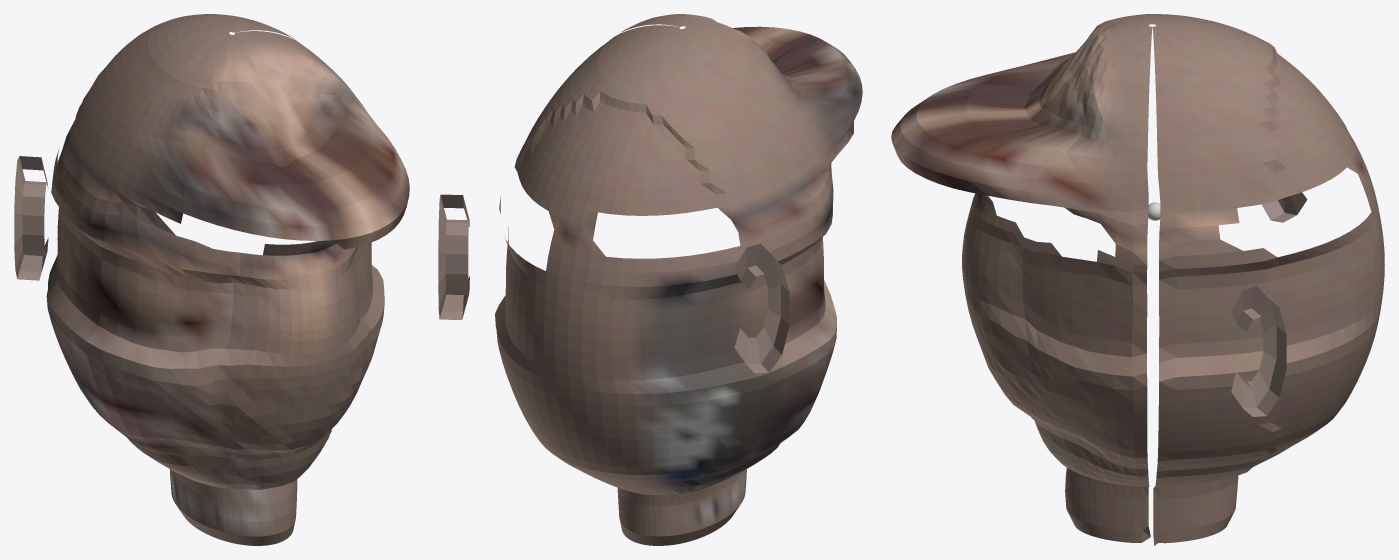
The model's file is avatar_v2_3e021de1.glb.
The picture shows the model from 3 angles, left to right: view 1: azimuth 30°, elevation 25°; view 2: azimuth 150°, elevation 25°; view 3: azimuth 270°, elevation 25°; orthographic projection. The views are drawn at different scales.
Parts seen in each view (by area): view 1: world; view 2: world; view 3: world.
Part boxes in pixels (bbox=[...]): world: bbox=[14, 14, 409, 545]; world: bbox=[438, 14, 862, 545]; world: bbox=[891, 14, 1384, 545].
Bounding box in the file's own units: 0.1037 × 0.1351 × 0.1216.
